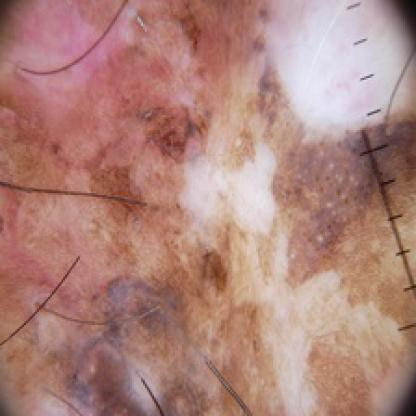malignant: (5, 11, 405, 412)
